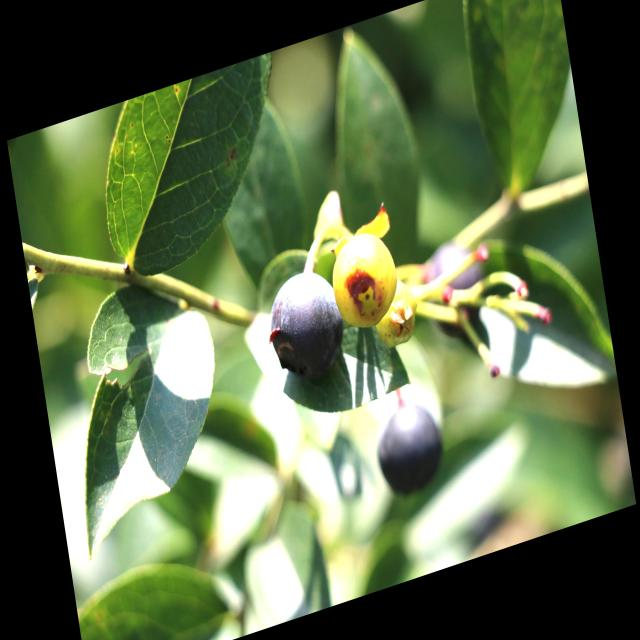blueberry: (255, 255, 354, 397), (415, 224, 499, 356), (366, 386, 450, 508)
blueberry-unripe: (329, 222, 404, 339), (367, 272, 425, 355)
